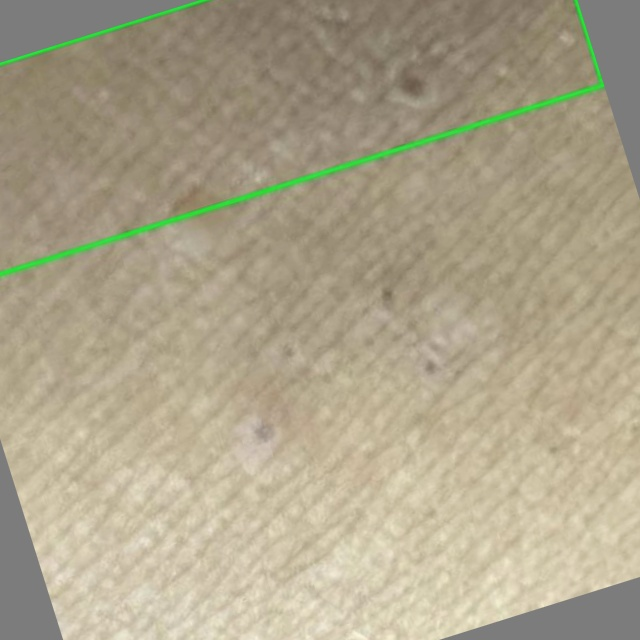Scabies: (0, 0, 603, 274)
